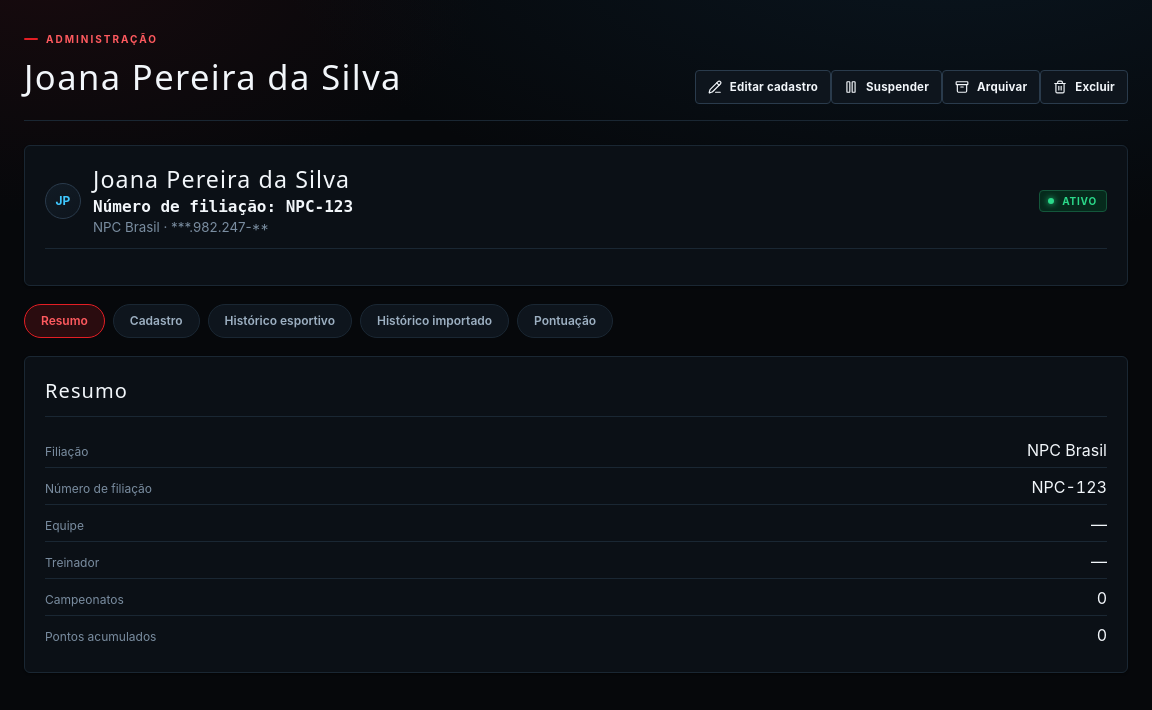
abrir a aba é leitura pura › sem candidato nem vínculo, a tela diz as duas coisas em vez de ficar em branco
What coordinates should you click on to do the following:
click the button "Histórico importado"
I would click on:
 (435, 321)
Its box is [360, 304, 509, 338].
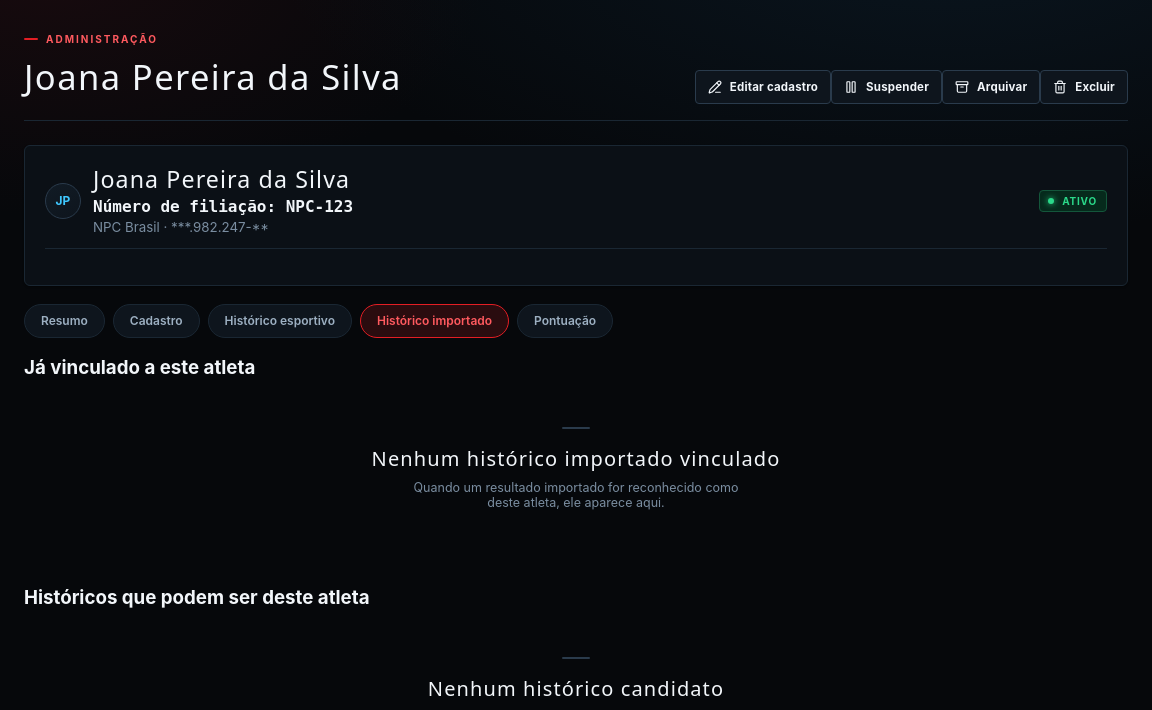
Expected: the heading "Nenhum histórico importado vinculado" is shown, [372, 445, 780, 472]
Expected: the heading "Nenhum histórico candidato" is shown, [428, 675, 724, 702]
